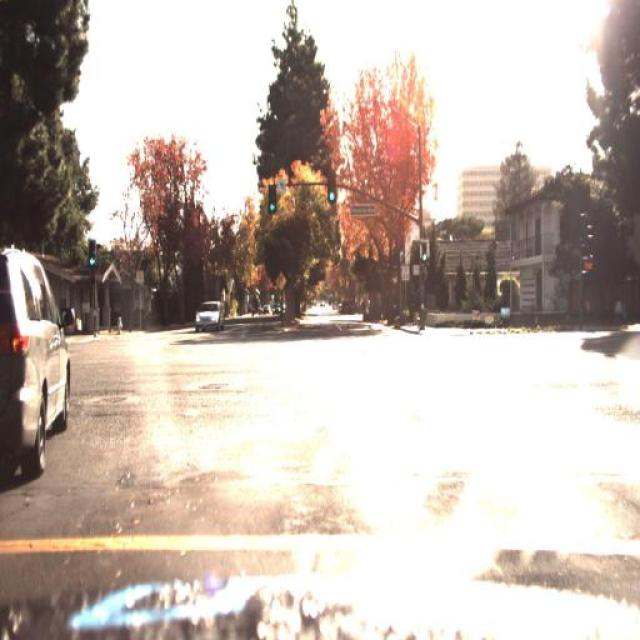car: (196, 300, 222, 332)
trafficLight-GreenLeft: (329, 170, 336, 204), (420, 242, 429, 267)
trafficLight-Red: (85, 238, 99, 272), (268, 186, 276, 220)
